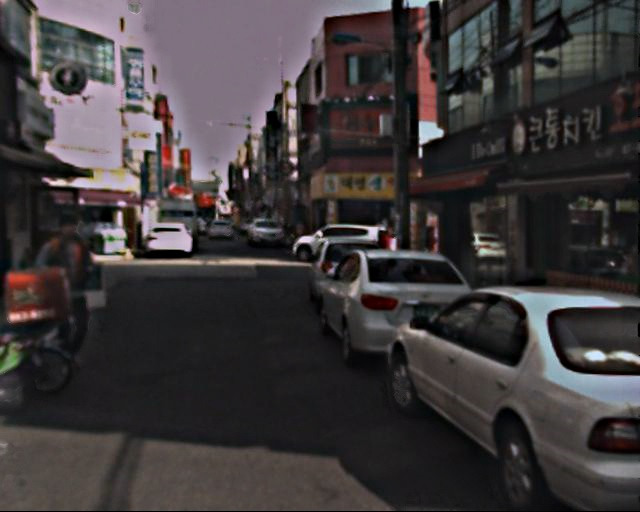person: (34, 208, 110, 366), (378, 229, 395, 271), (422, 225, 439, 267)
